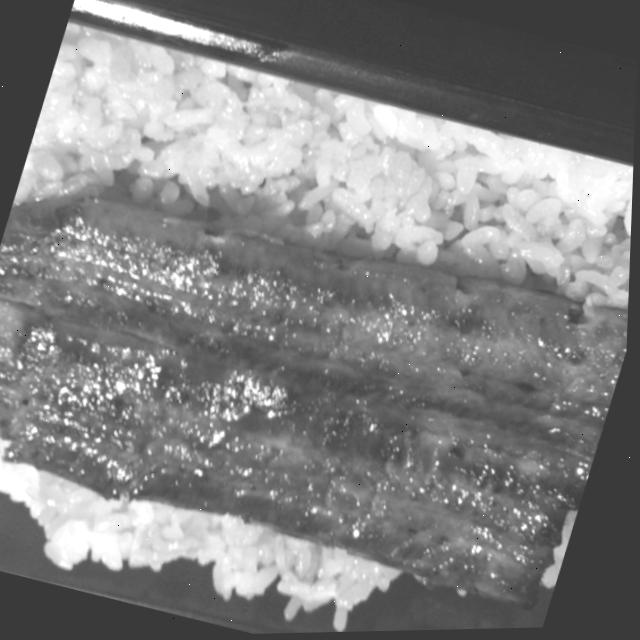熟制海鲜: (0, 9, 639, 640)
